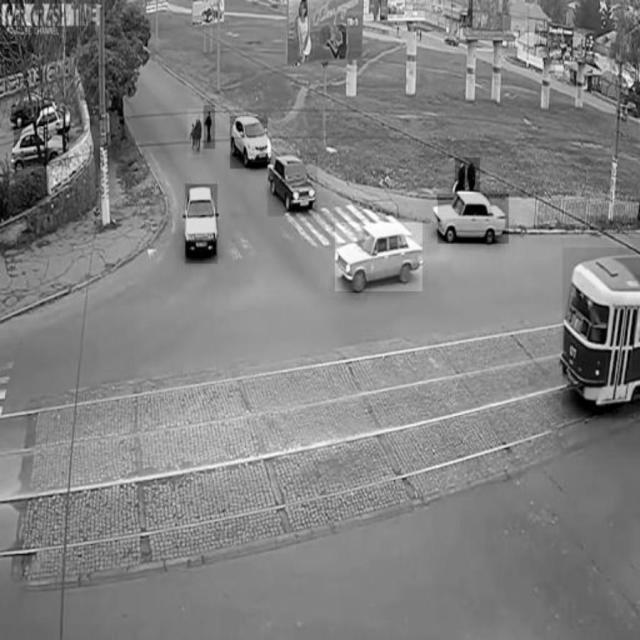person: (455, 157, 480, 191), (187, 109, 203, 157), (204, 105, 214, 149)
vehicle: (563, 248, 640, 418), (335, 222, 423, 290), (438, 194, 509, 244), (268, 152, 318, 216), (185, 184, 217, 264), (14, 121, 69, 166), (231, 117, 268, 169)
